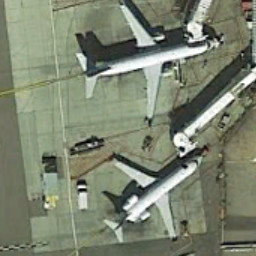Airplane: (71, 2, 220, 127), (95, 140, 209, 252)
